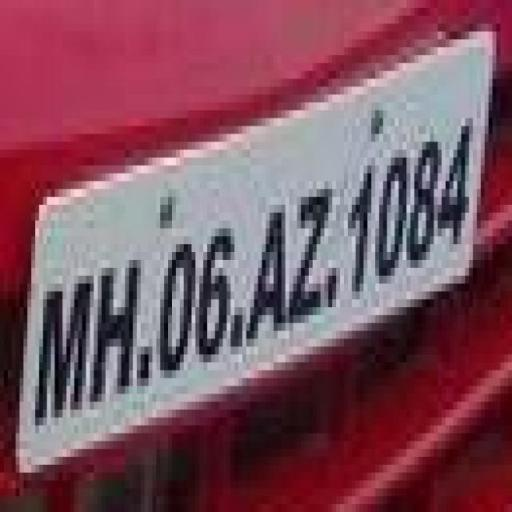number plate: (0, 126, 485, 441)
